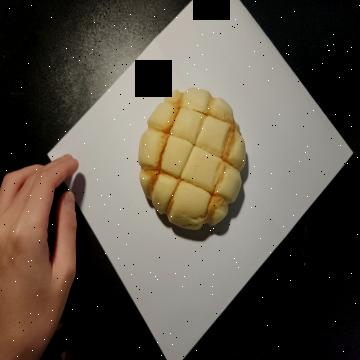melon_bread: (137, 88, 246, 231)
